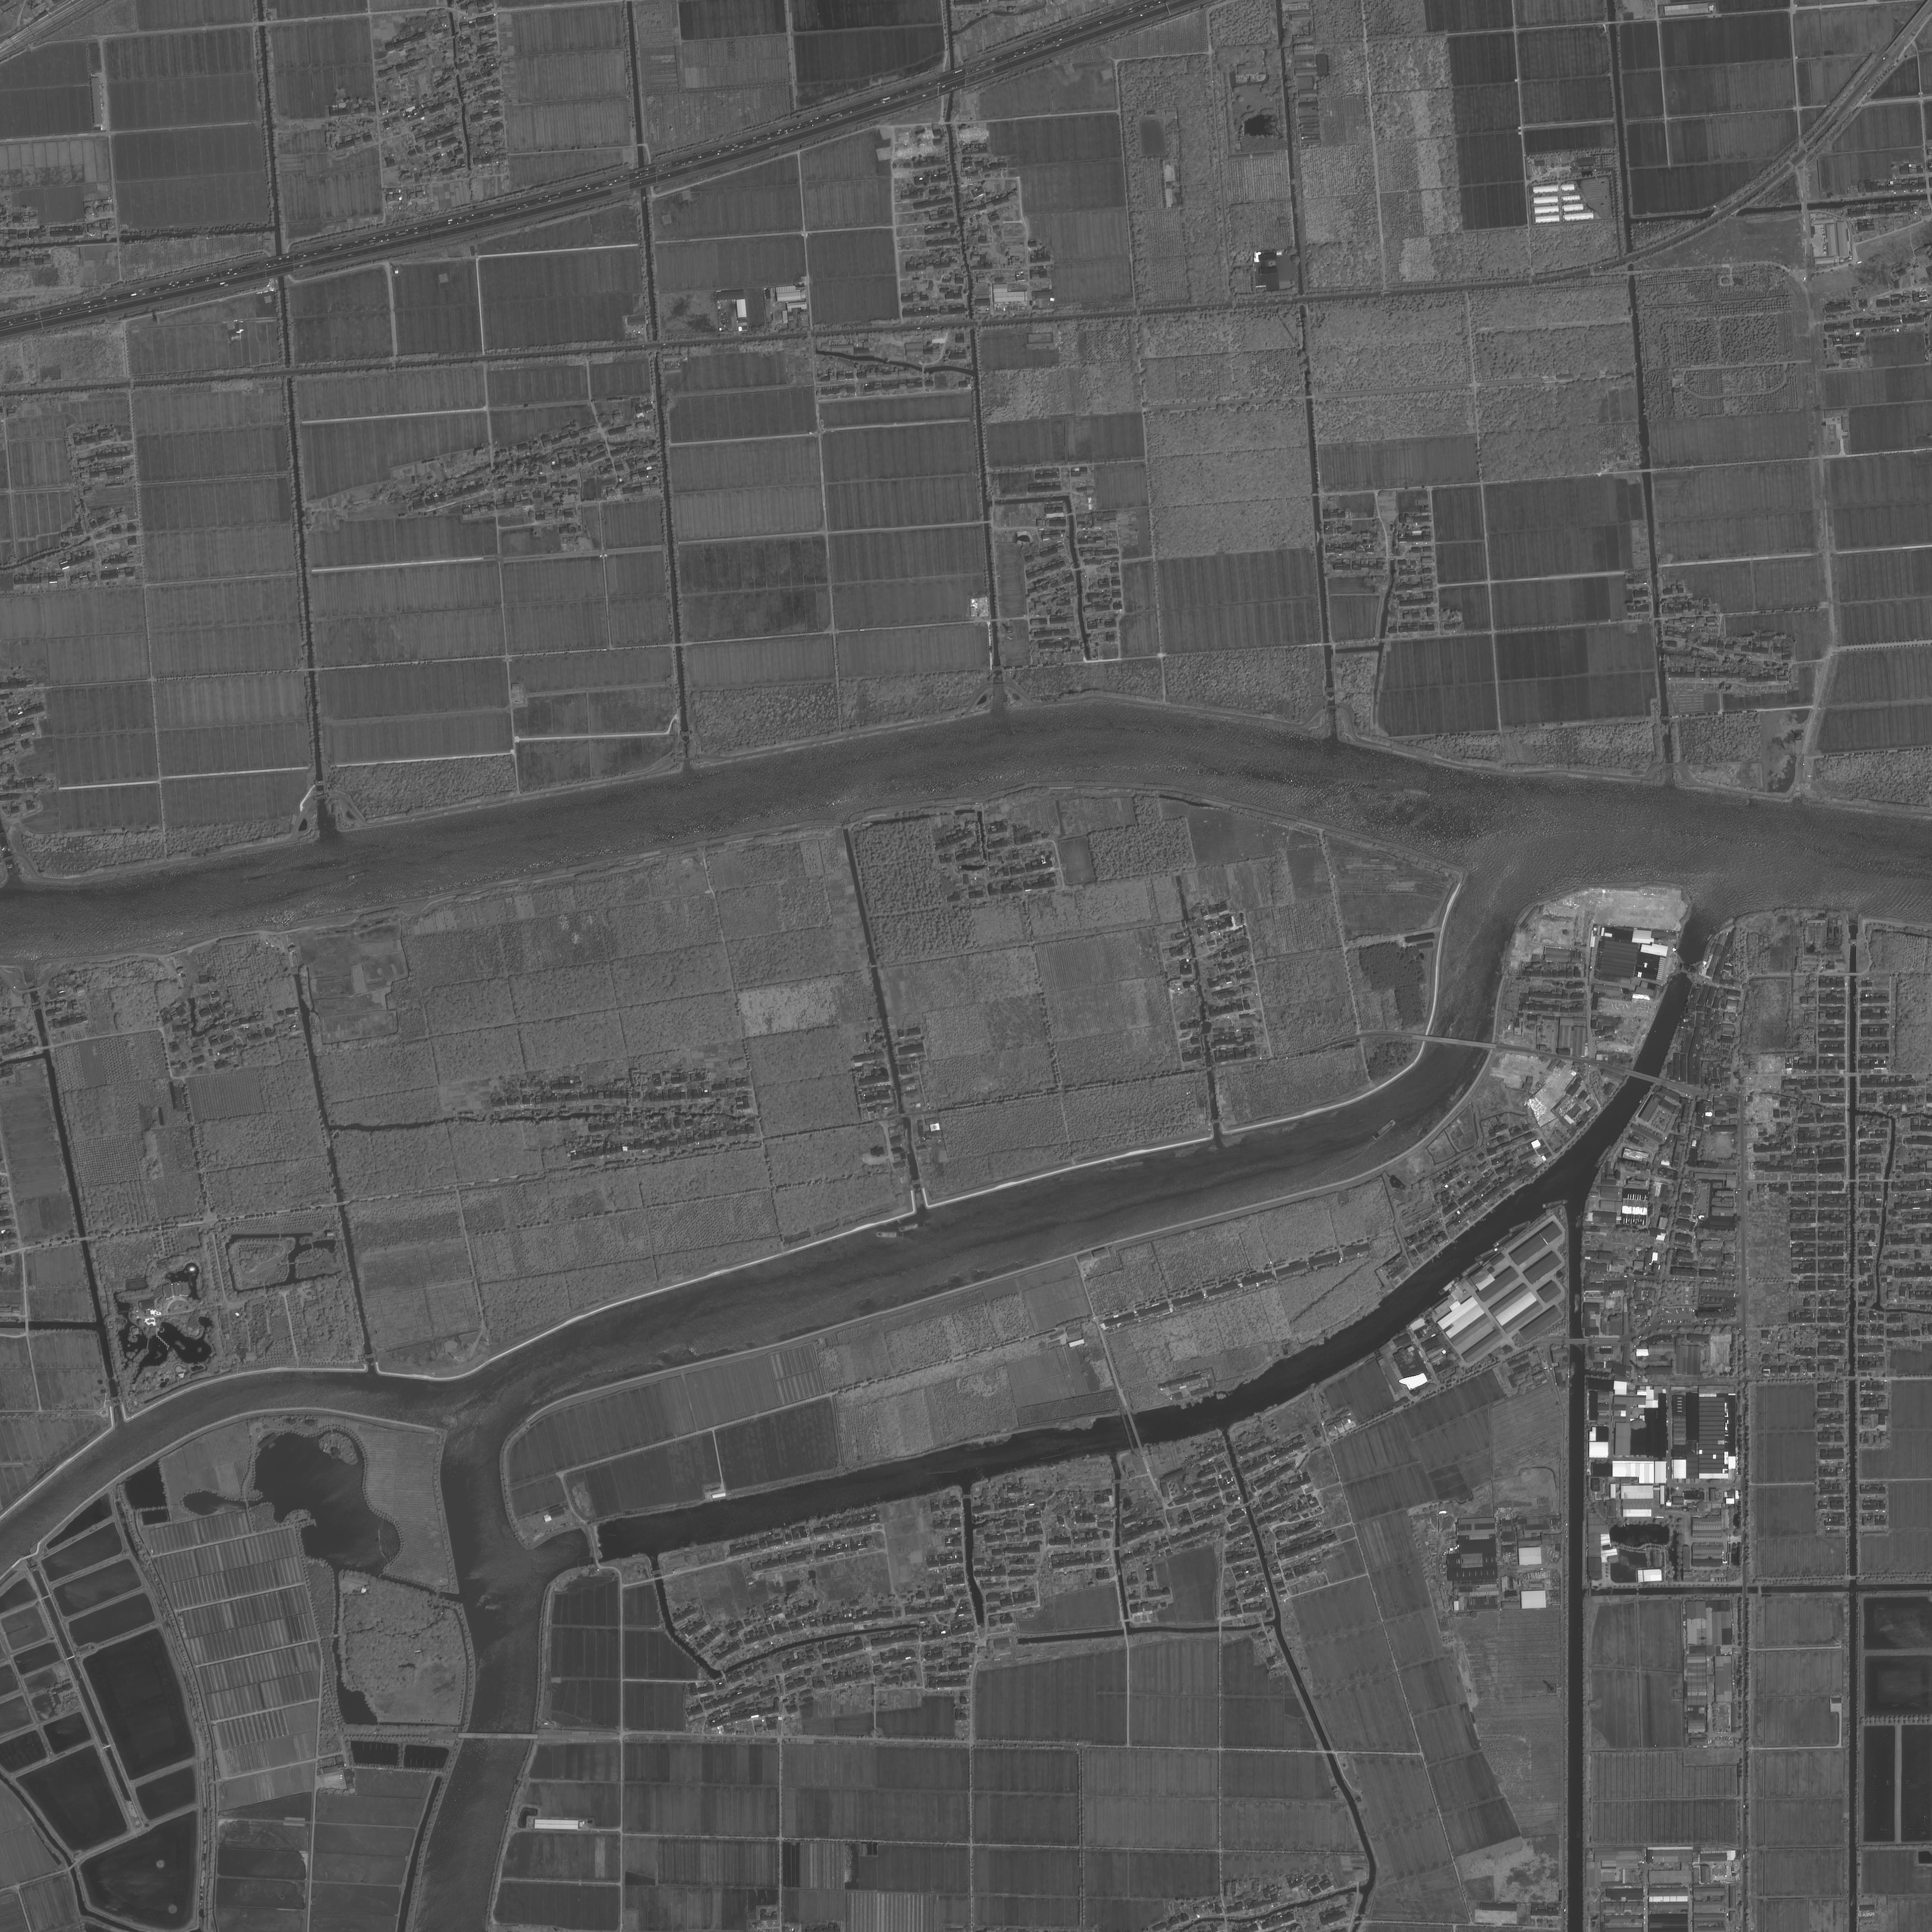ship: (1371, 1118, 1398, 1143), (1437, 1276, 1461, 1297), (1460, 1258, 1484, 1279), (1594, 1145, 1614, 1169), (1474, 1246, 1499, 1263), (242, 872, 274, 885), (1507, 1219, 1532, 1235), (345, 869, 373, 881), (1491, 1233, 1513, 1249), (1541, 1198, 1568, 1210), (1401, 787, 1431, 798), (897, 1221, 922, 1233), (872, 1230, 899, 1237)
